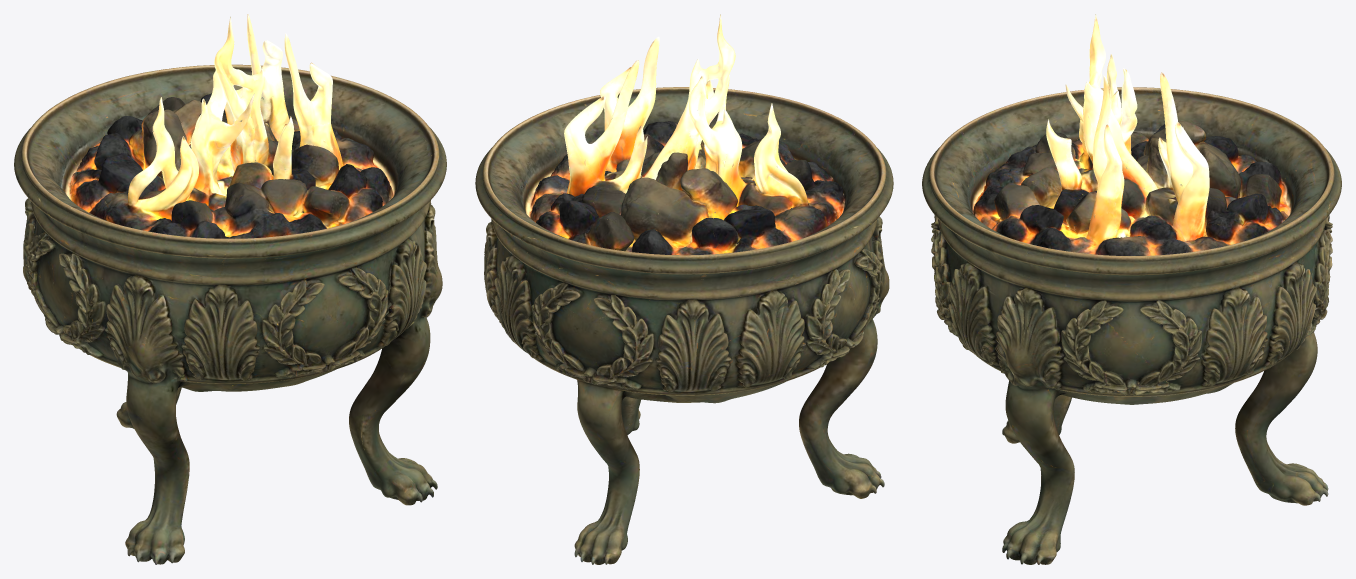
Rendered from brazier.glb.
3 views of the same model, side by side, from view 1: azimuth 30°, elevation 25°; view 2: azimuth 150°, elevation 25°; view 3: azimuth 270°, elevation 25° (orthographic). The views are drawn at different scales.
Bounding box in the file's own units: 49785 × 62199 × 49777.
1 material, 1 textured.
